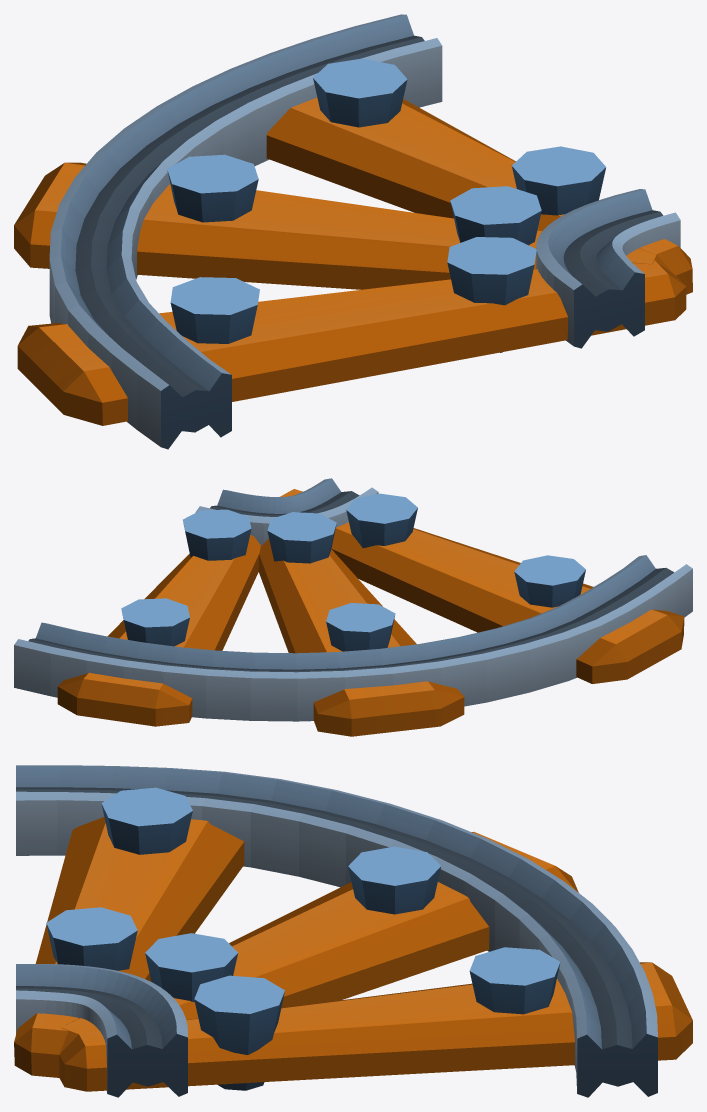
File: 1Br-SagRay.fbx
The picture shows the model from 3 angles, top to bottom: view 1: azimuth 30°, elevation 25°; view 2: azimuth 150°, elevation 25°; view 3: azimuth 270°, elevation 25°; orthographic projection. The views are drawn at different scales.
Visible parts, largest first — view 1: 1Br-SagRay; view 2: 1Br-SagRay; view 3: 1Br-SagRay.
Part boxes in pixels (x1,y1,x2,y2): 1Br-SagRay: (14, 14, 692, 449); 1Br-SagRay: (14, 478, 692, 736); 1Br-SagRay: (14, 765, 692, 1097).
Bounding box in the file's own units: 188 × 25.32 × 184.
